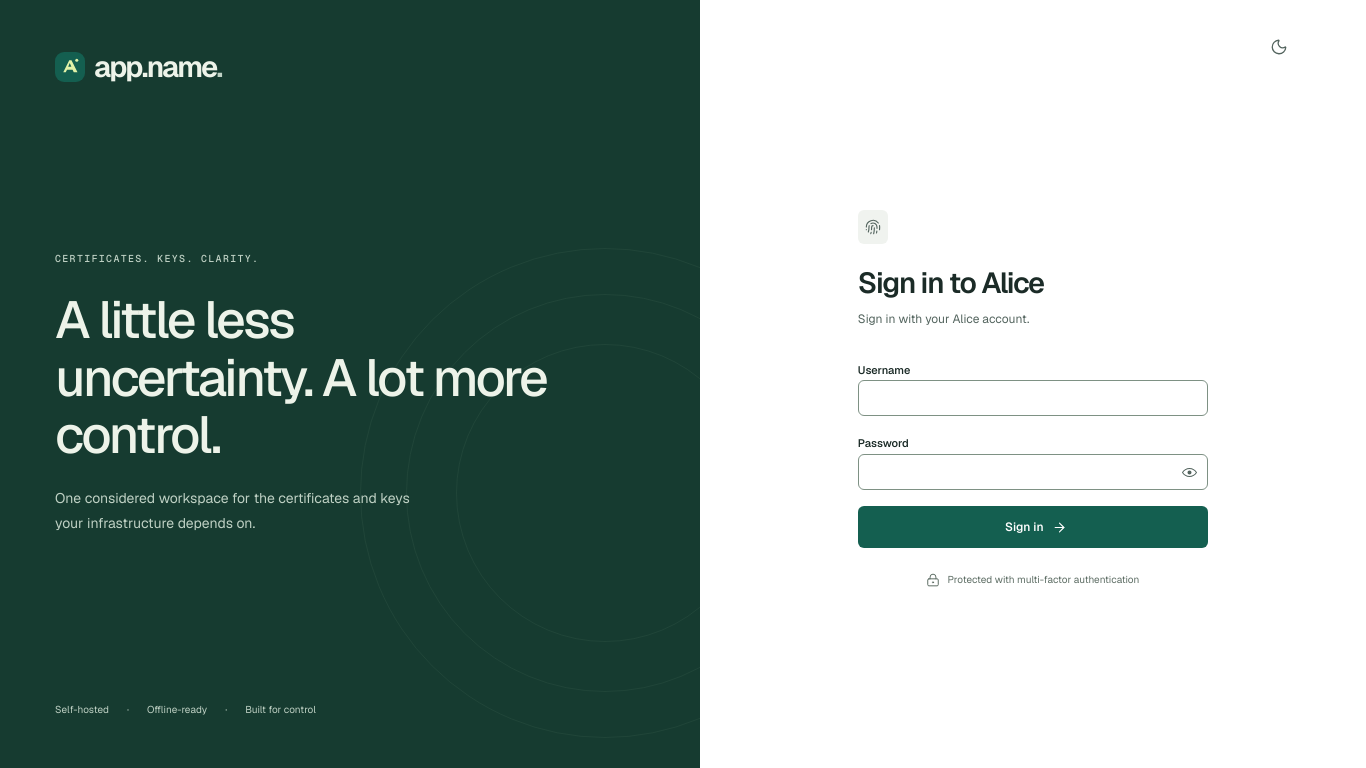
Test: sign-in page › signs in with password and authenticator code
Expected: the heading "Sign in to Alice" is shown, [858,264,1044,302]
Type "olcay" into the field labelled "Username" at coordinates (1033, 398), box [858,380,1208,416]
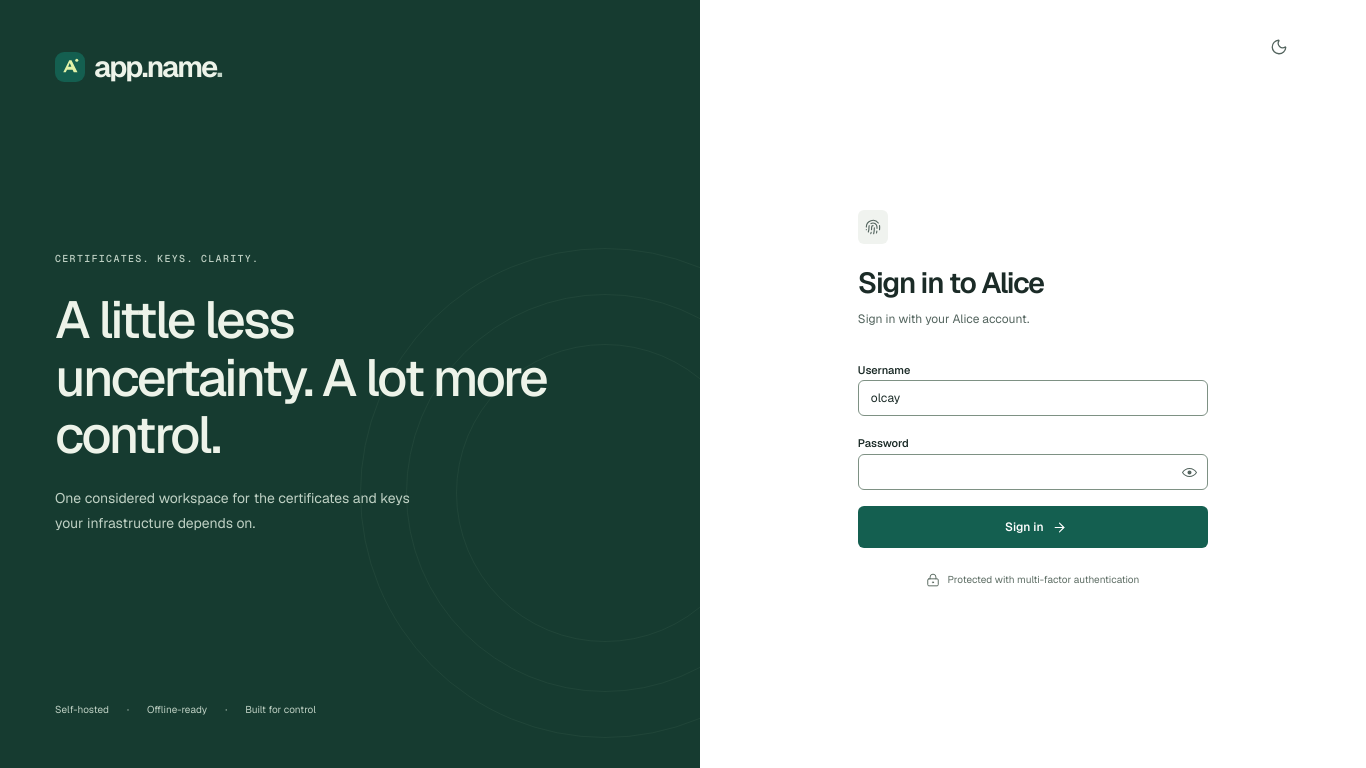
Type "correct horse battery" into the password field labelled "Password" at coordinates (1033, 472), box [859,455,1207,489]
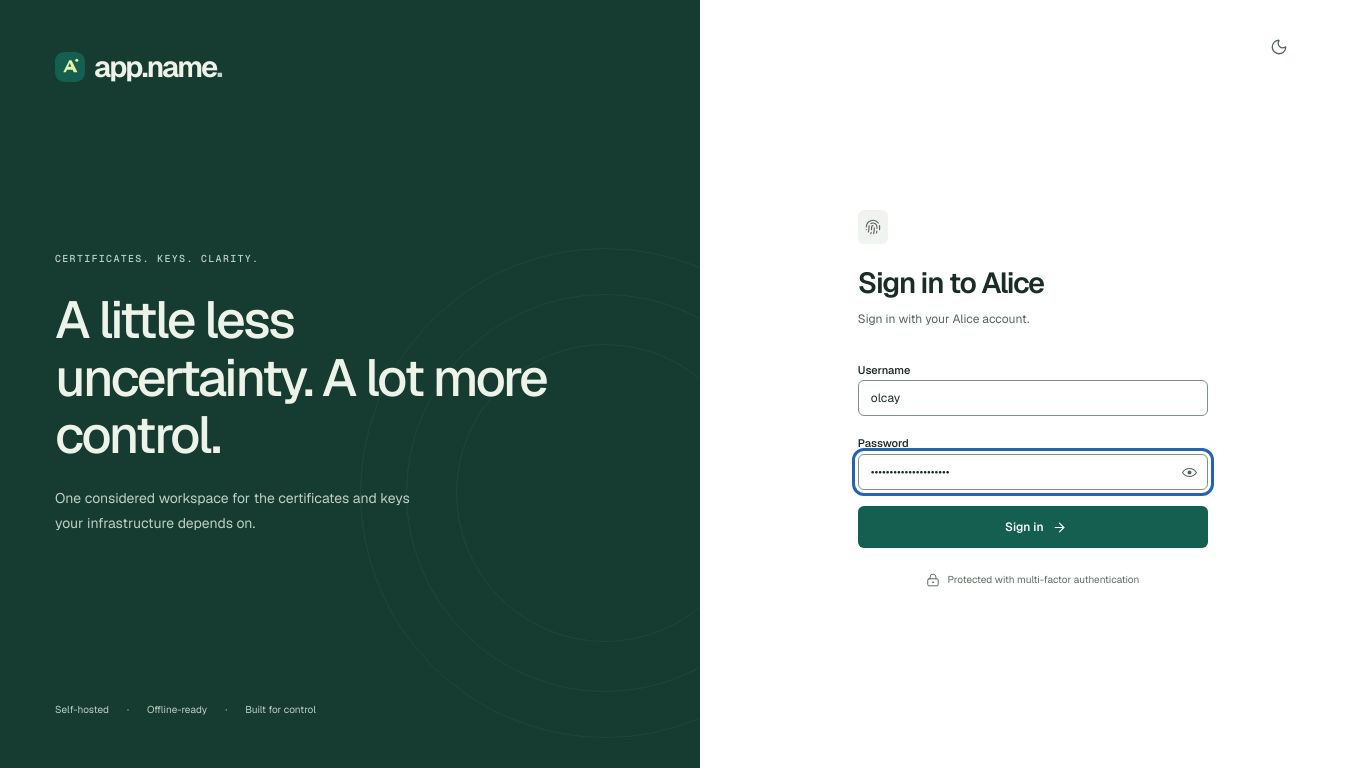
Click the button "Sign in" at coordinates (1033, 527), box [858,506,1208,548]
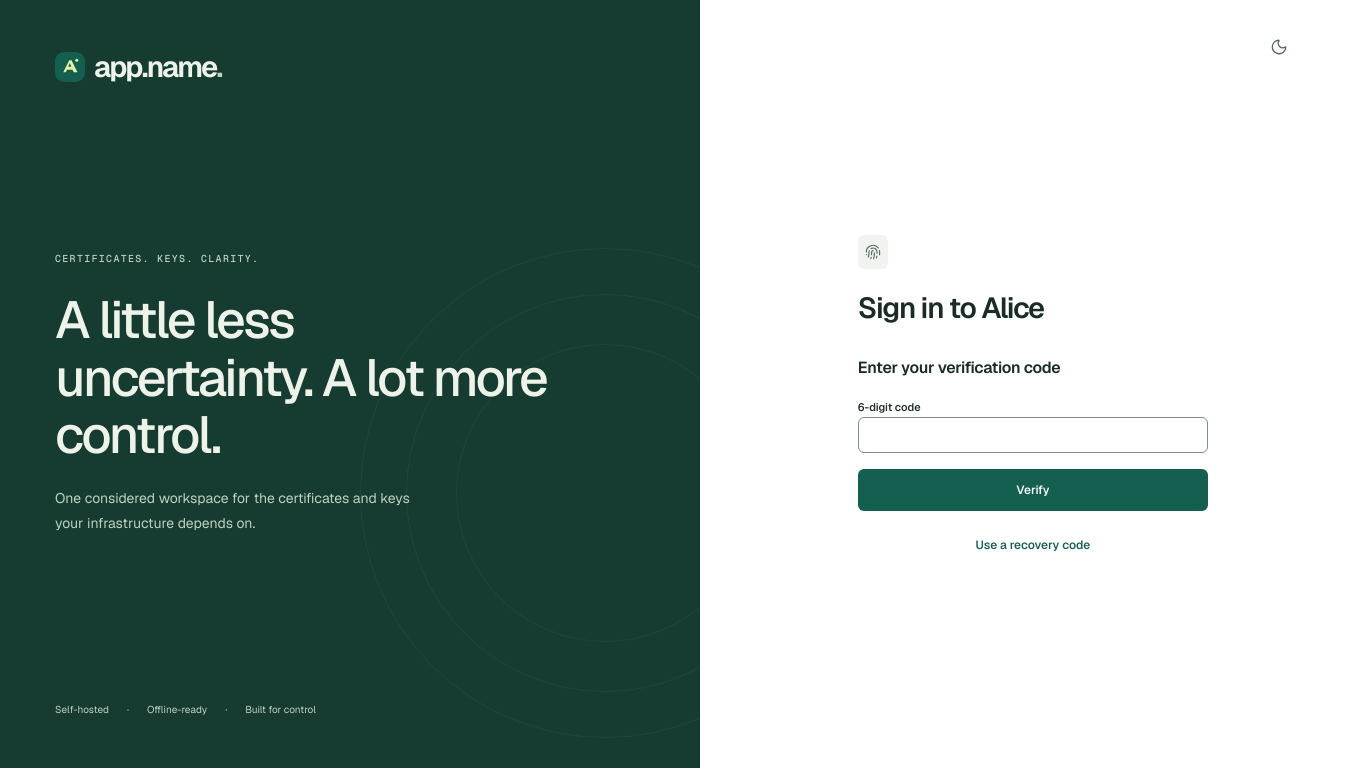
Result: the heading "Enter your verification code" is shown at [858,356,1060,378]
Type "123456" into the field labelled "6-digit code" at coordinates (1033, 435), box [858,417,1208,453]
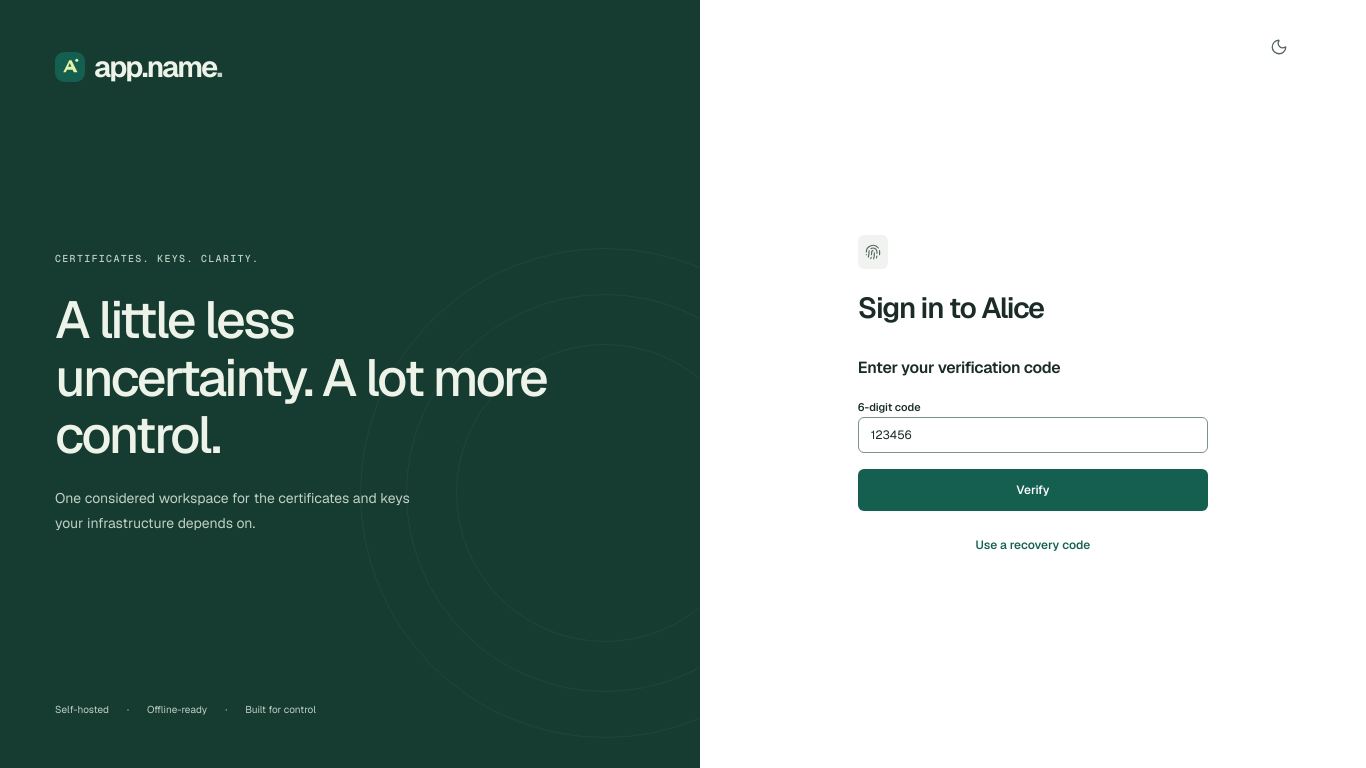
Click the button "Verify" at coordinates (1033, 490), box [858,469,1208,511]
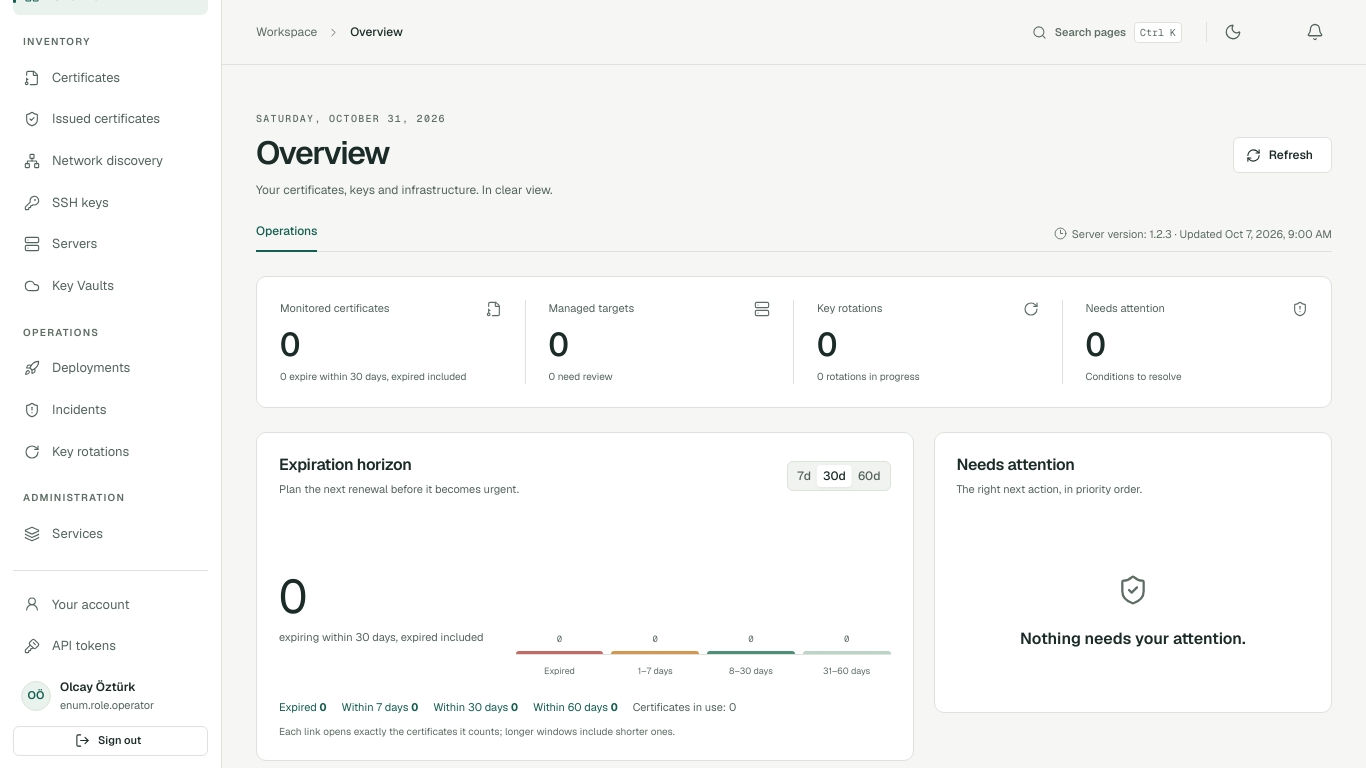
Result: the text with test id "current-user" reads "Olcay Öztürk" at [60,679,136,695]
